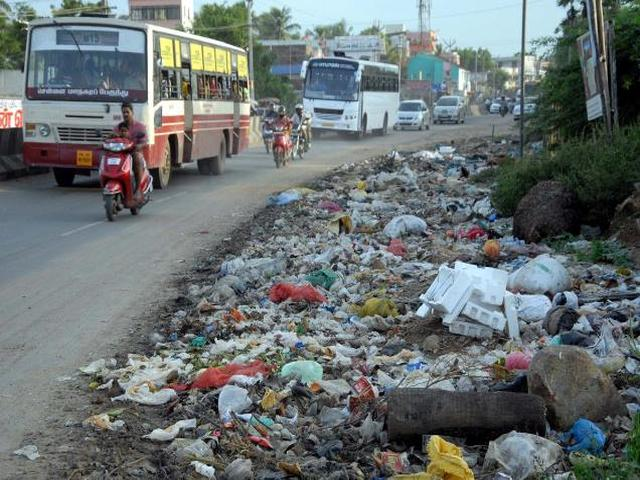garbage: (227, 263, 377, 445), (302, 188, 485, 256)
